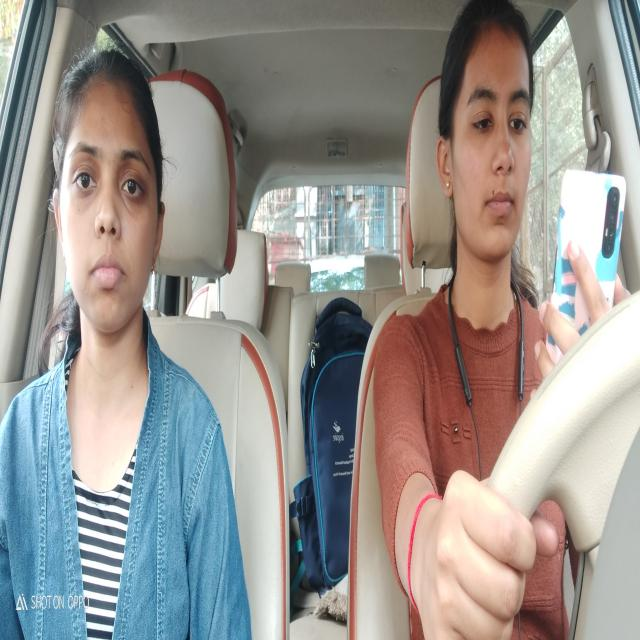mobile: (541, 145, 632, 394)
person: (43, 38, 177, 358), (426, 2, 550, 285)
